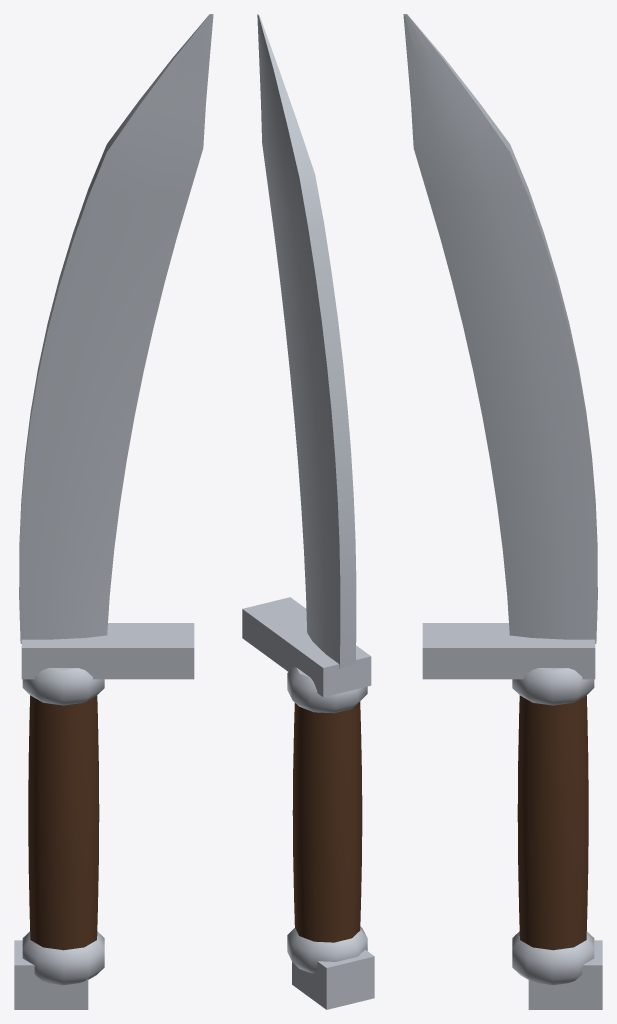
The model's file is dagger_twin.glb.
3 renders of one model, left to right at view 1: azimuth 90°, elevation 25°; view 2: azimuth 210°, elevation 25°; view 3: azimuth 270°, elevation 25°, orthographic. The views are drawn at different scales.
Visible parts, largest first — view 1: dagger_twin; view 2: dagger_twin; view 3: dagger_twin.
Part boxes in pixels (x1,y1,x2,y2): dagger_twin: (14, 14, 213, 1009); dagger_twin: (242, 14, 374, 1009); dagger_twin: (403, 14, 602, 1009).
Size of the model in its own units: 0.035 by 0.44 by 0.0808.
